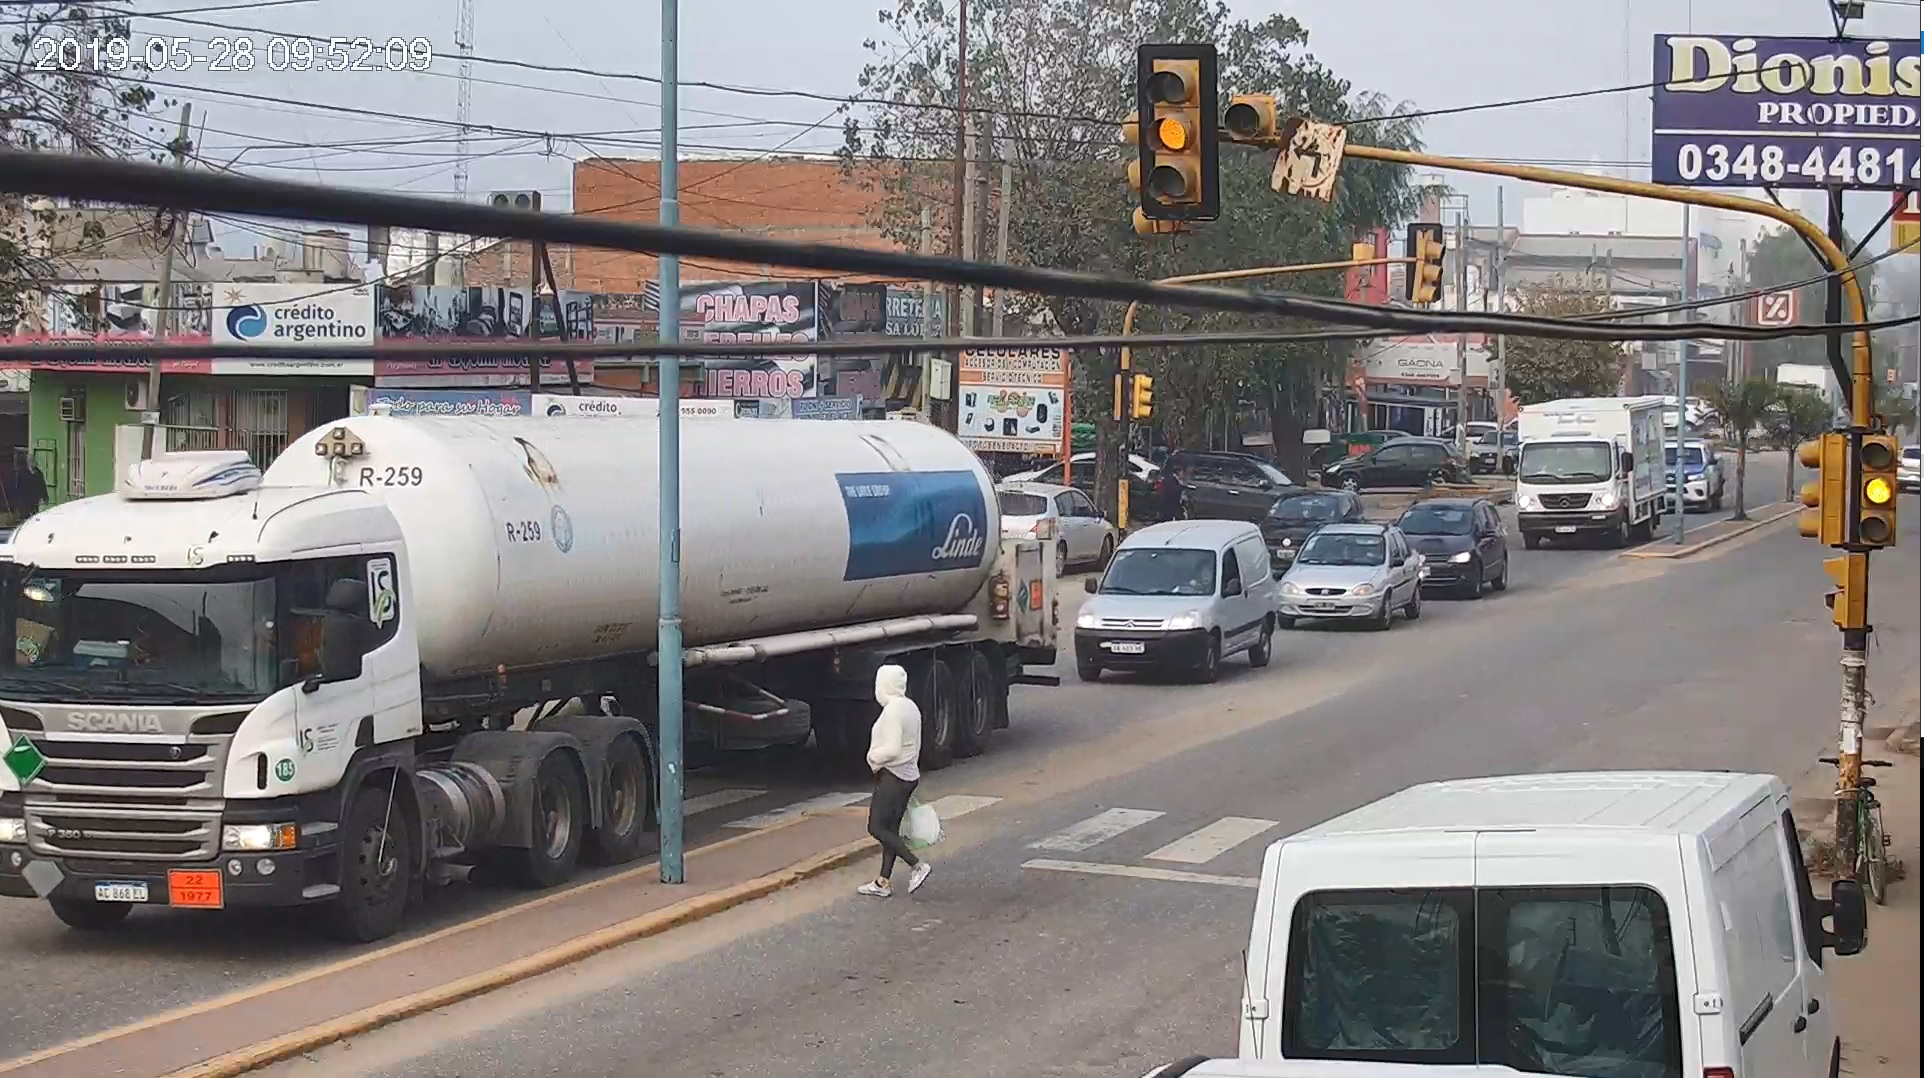car: (1228, 758, 1872, 1078), (1062, 517, 1283, 688), (1269, 513, 1422, 639), (1317, 428, 1454, 491)
truck: (3, 390, 1070, 946), (1498, 399, 1670, 554)
